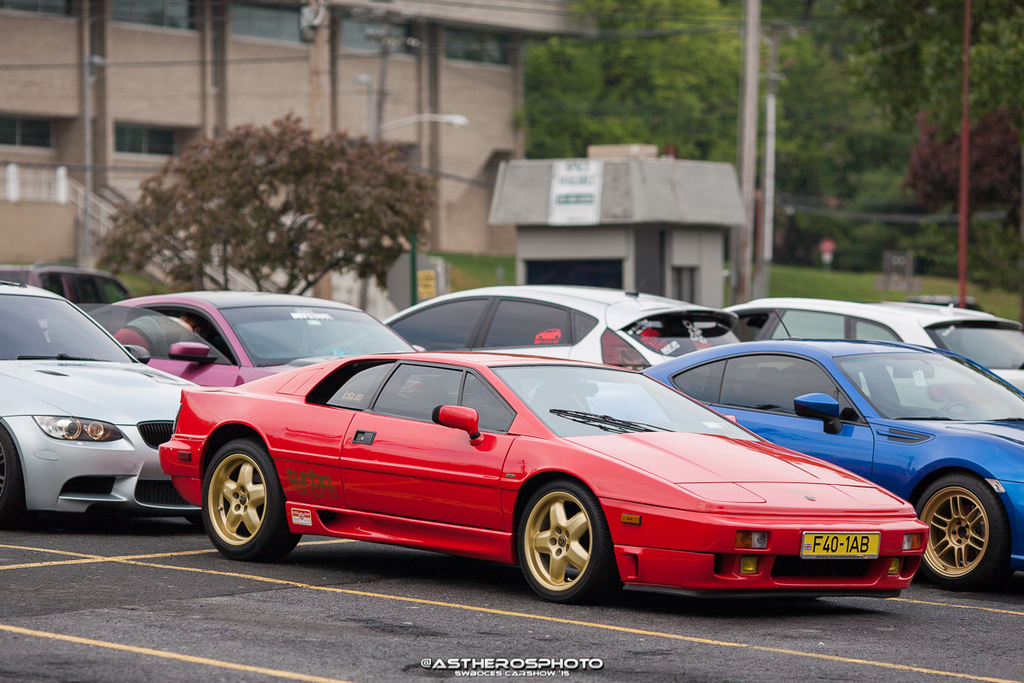Car: (0, 259, 1023, 597)
